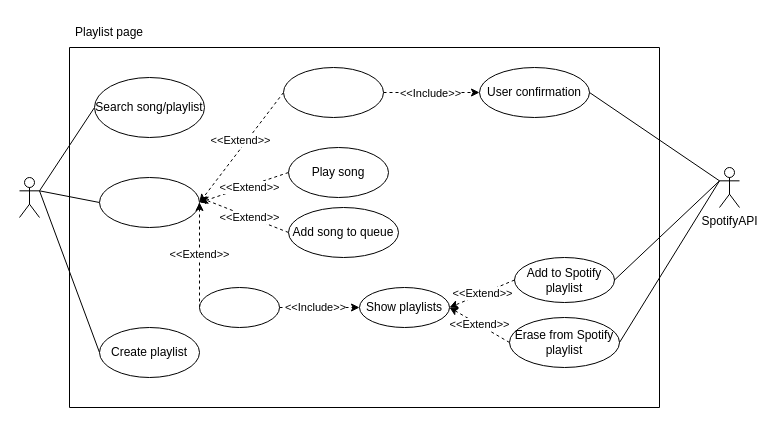
Image size: 775x425. Some labels were removed from this diagram. Here are the shapes that lost their labels. From the top down, the centre of each, then its label:
At point 333,92: "Delete playlist".
At point 29,197: "User".
At point 149,202: "View playlist".
At point 239,307: "Manage song".
